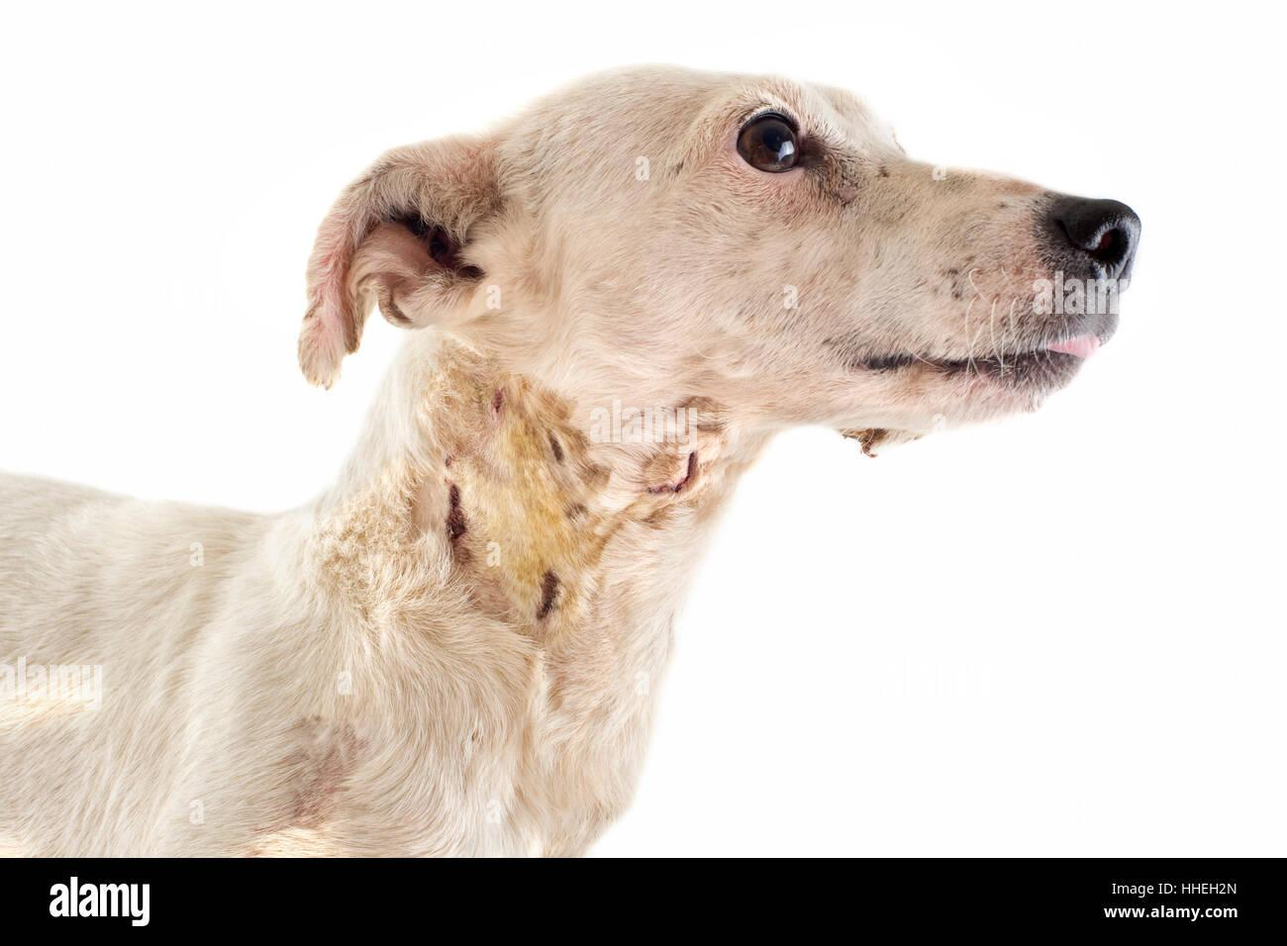cut: (310, 355, 719, 662)
